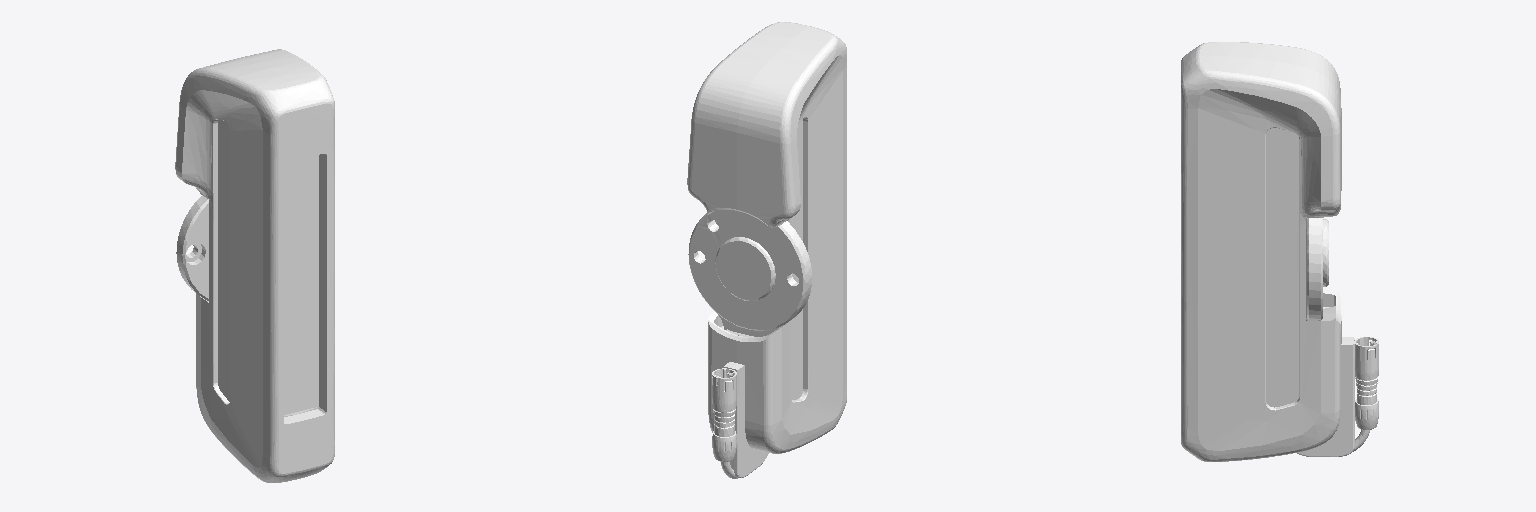
The model's file is hand_vis.obj.
The picture shows the model from 3 angles: view 1: azimuth 30°, elevation 25°; view 2: azimuth 150°, elevation 25°; view 3: azimuth 270°, elevation 25°; orthographic projection.
Visible parts, largest first — view 1: Hand_Vis; view 2: Hand_Vis; view 3: Hand_Vis.
Part boxes in pixels (x1,y1,x2,y2): Hand_Vis: (175, 49, 334, 482); Hand_Vis: (687, 22, 846, 478); Hand_Vis: (1181, 42, 1378, 461).
Size of the model in its own units: 0.063 by 0.2045 by 0.0919.